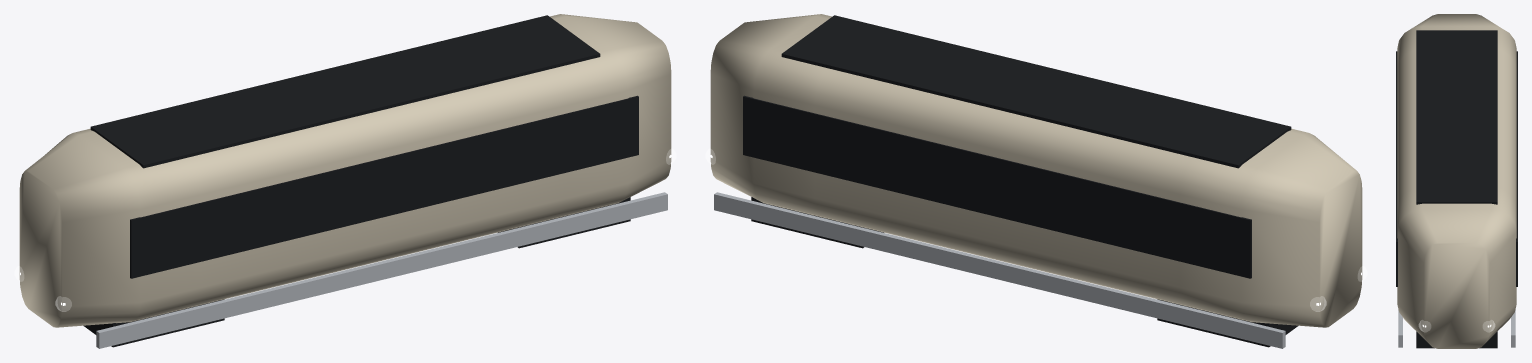
File: city_rail_car.glb
3 views of the same model, side by side, from view 1: azimuth 30°, elevation 25°; view 2: azimuth 150°, elevation 25°; view 3: azimuth 270°, elevation 25° (orthographic). The views are drawn at different scales.
Visible parts, largest first — view 1: CityRailCar_Body, CityRailCar_Windows-1, CityRailCar_Solar, CityRailCar_Skirt-1, CityRailCar_Bogie-4.0; view 2: CityRailCar_Body, CityRailCar_Windows1, CityRailCar_Solar, CityRailCar_Skirt1, CityRailCar_Bogie-4.0; view 3: CityRailCar_Body, CityRailCar_Solar, CityRailCar_Windows1, CityRailCar_Windows-1, CityRailCar_Bogie4.0, CityRailCar_Skirt1, CityRailCar_Skirt-1, CityRailCar_Lamp5.95-0.7_Halo, CityRailCar_Lamp5.950.7_Halo.
Boxes of the visible parts, bbox=[...] form: CityRailCar_Body: bbox=[19, 14, 671, 327]; CityRailCar_Windows-1: bbox=[130, 95, 638, 278]; CityRailCar_Solar: bbox=[90, 15, 600, 168]; CityRailCar_Skirt-1: bbox=[96, 192, 667, 348]; CityRailCar_Bogie-4.0: bbox=[83, 299, 224, 347]; CityRailCar_Body: bbox=[710, 14, 1362, 327]; CityRailCar_Windows1: bbox=[743, 95, 1251, 278]; CityRailCar_Solar: bbox=[781, 15, 1291, 168]; CityRailCar_Skirt1: bbox=[714, 192, 1285, 348]; CityRailCar_Bogie-4.0: bbox=[1157, 299, 1298, 347]; CityRailCar_Body: bbox=[1397, 14, 1516, 348]; CityRailCar_Solar: bbox=[1416, 30, 1497, 204]; CityRailCar_Windows1: bbox=[1516, 51, 1517, 286]; CityRailCar_Windows-1: bbox=[1396, 51, 1397, 286]; CityRailCar_Bogie4.0: bbox=[1416, 331, 1497, 348]; CityRailCar_Skirt1: bbox=[1511, 310, 1515, 347]; CityRailCar_Skirt-1: bbox=[1398, 310, 1402, 347]; CityRailCar_Lamp5.95-0.7_Halo: bbox=[1419, 320, 1430, 331]; CityRailCar_Lamp5.950.7_Halo: bbox=[1483, 320, 1494, 331].
Size of the model in its own units: 12.19 by 3.29 by 2.7.
